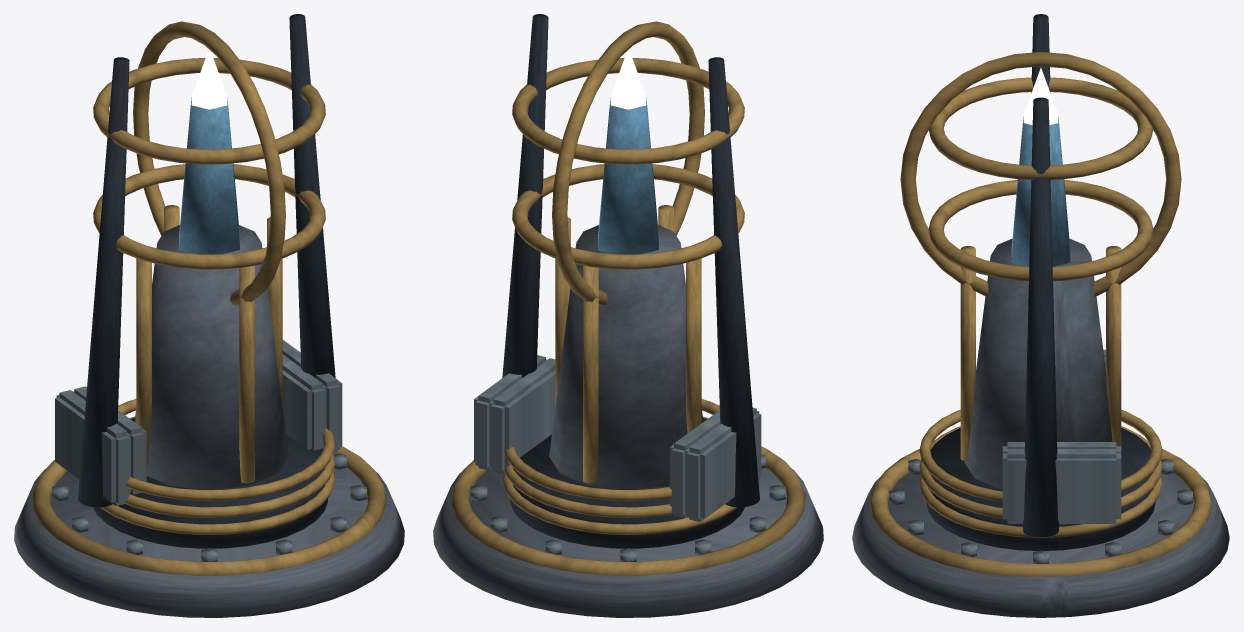
File: tower_amp_3.glb
3 renders of one model, left to right at view 1: azimuth 30°, elevation 25°; view 2: azimuth 150°, elevation 25°; view 3: azimuth 270°, elevation 25°, orthographic. The views are drawn at different scales.
Parts seen in each view (by area): view 1: Weathered_granite, Antique_brass, Antique_brass.001, Forged_black_iron.001, Weathered_blue_steel, Forged_black_iron, Blue_glacial_ice, Soul_light; view 2: Weathered_granite, Antique_brass, Antique_brass.001, Forged_black_iron.001, Weathered_blue_steel, Blue_glacial_ice, Forged_black_iron, Soul_light; view 3: Weathered_granite, Antique_brass.001, Antique_brass, Forged_black_iron.001, Weathered_blue_steel, Forged_black_iron, Blue_glacial_ice, Soul_light.
Boxes of the visible parts, x1,y1,x2,y2 form: Weathered_granite: (14,225,404,617); Antique_brass: (32,205,386,575); Antique_brass.001: (93,21,325,305); Forged_black_iron.001: (78,14,335,507); Weathered_blue_steel: (52,340,366,561); Forged_black_iron: (93,418,327,548); Blue_glacial_ice: (179,97,239,254); Soul_light: (191,49,227,109); Weathered_granite: (433,225,823,617); Antique_brass: (451,205,805,575); Antique_brass.001: (512,21,744,305); Forged_black_iron.001: (502,14,759,507); Weathered_blue_steel: (471,355,785,561); Blue_glacial_ice: (598,97,658,254); Forged_black_iron: (510,418,744,548); Soul_light: (610,49,646,109); Weathered_granite: (852,238,1229,617); Antique_brass.001: (900,52,1181,296); Antique_brass: (869,246,1212,577); Forged_black_iron.001: (1022,14,1059,537); Weathered_blue_steel: (889,349,1192,563); Forged_black_iron: (926,427,1155,550); Blue_glacial_ice: (1011,117,1070,266); Soul_light: (1023,68,1058,125).
Bounding box in the file's own units: 2.7 × 3.84 × 2.7.
6 materials, 5 textured.
